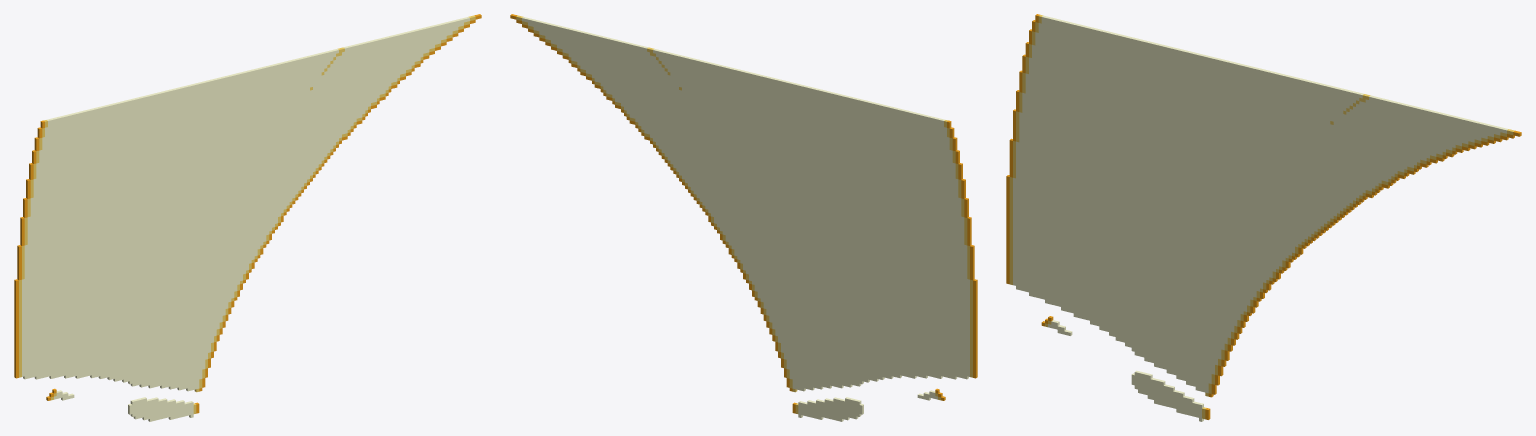
File: Fight_013_2_10_fx.obj
3 renders of one model, left to right at view 1: azimuth 30°, elevation 25°; view 2: azimuth 150°, elevation 25°; view 3: azimuth 330°, elevation 25°, orthographic. The views are drawn at different scales.
Bounding box in the file's own units: 16 × 10.9 × 0.1.
Materials: 1 (1 with a texture image).
